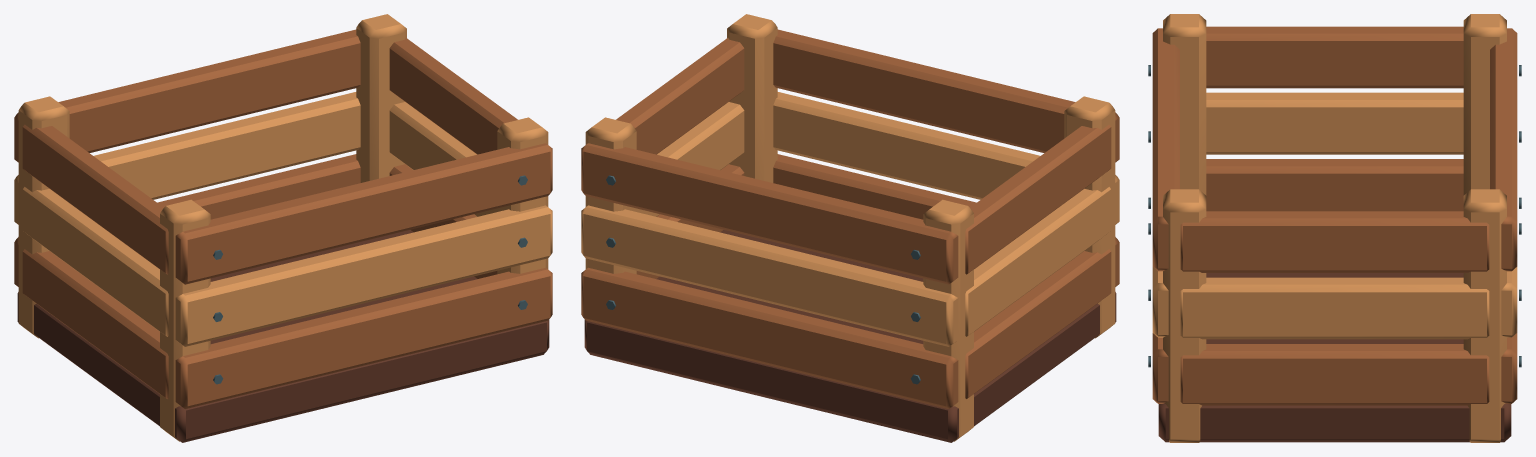
File: crate.glb
The picture shows the model from 3 angles, left to right: view 1: azimuth 30°, elevation 25°; view 2: azimuth 150°, elevation 25°; view 3: azimuth 270°, elevation 25°; orthographic projection. The views are drawn at different scales.
Parts seen in each view (by area): view 1: Crate; view 2: Crate; view 3: Crate.
Boxes of the visible parts, x1,y1,x2,y2 form: Crate: (14,14,552,442); Crate: (581,14,1119,442); Crate: (1148,14,1521,442).
Size of the model in its own units: 0.579 by 0.33 by 0.464.
